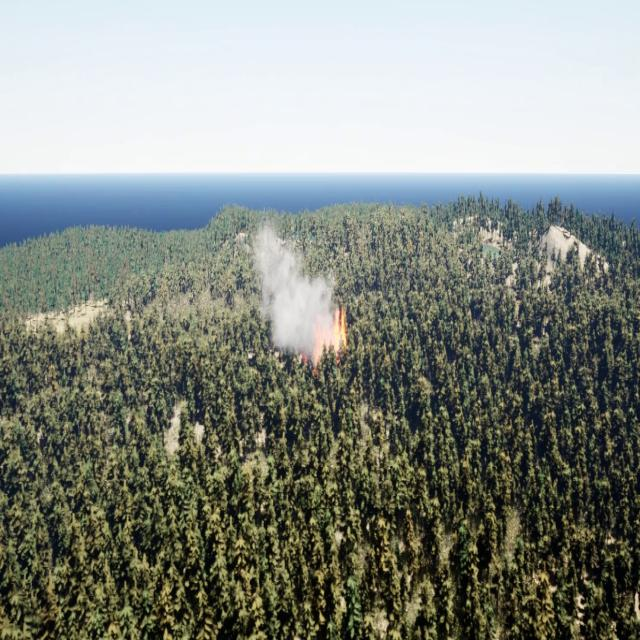fire: (311, 306, 348, 370)
smoke: (246, 212, 334, 362)
